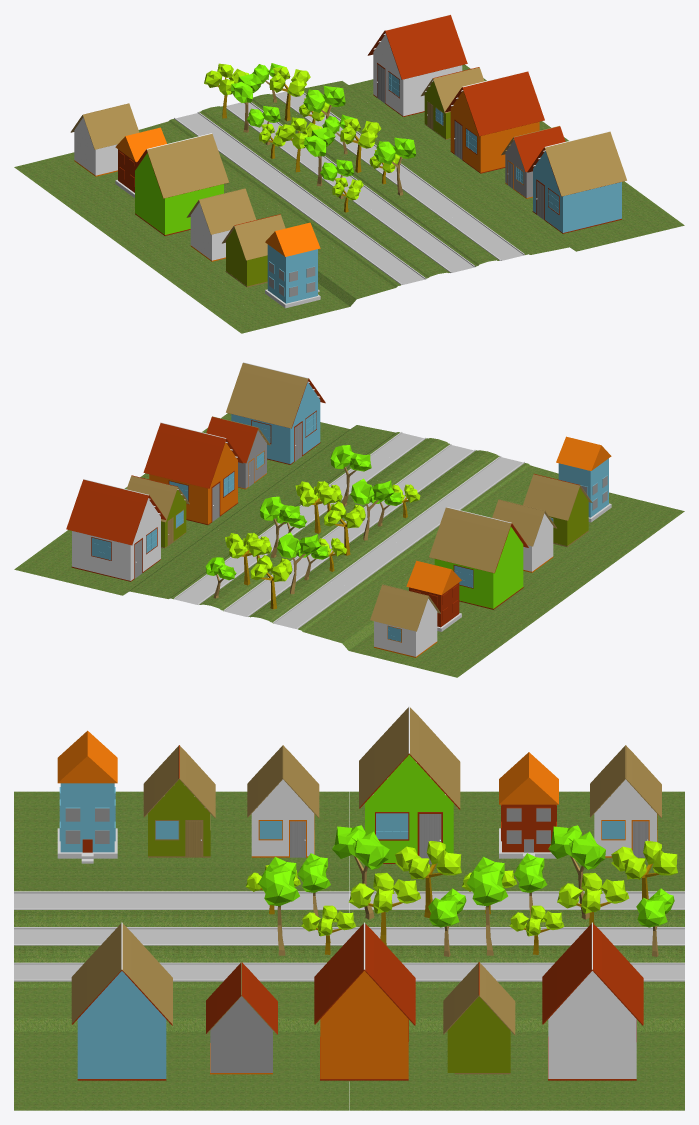
3 views of the same model, one above another, from view 1: azimuth 30°, elevation 25°; view 2: azimuth 150°, elevation 25°; view 3: azimuth 270°, elevation 25° (orthographic). The views are drawn at different scales.
Parts seen in each view (by area): view 1: G1-CHAO, G3-CASAS, G1-ARVORES; view 2: G1-CHAO, G3-CASAS, G1-ARVORES; view 3: G1-CHAO, G3-CASAS, G1-ARVORES.
Part boxes in pixels (x1,y1,x2,y2): G1-CHAO: (14, 64, 684, 333); G3-CASAS: (70, 14, 626, 308); G1-ARVORES: (204, 63, 415, 212); G1-CHAO: (14, 413, 684, 677); G3-CASAS: (66, 362, 611, 657); G1-ARVORES: (205, 445, 420, 609); G1-CHAO: (14, 791, 684, 1110); G3-CASAS: (57, 706, 661, 1080); G1-ARVORES: (246, 825, 677, 956).
Bounding box in the file's own units: 14400 × 2404 × 12800.
